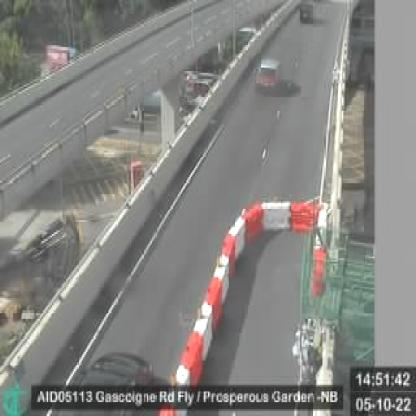Car: (253, 59, 281, 92), (299, 2, 313, 22)
